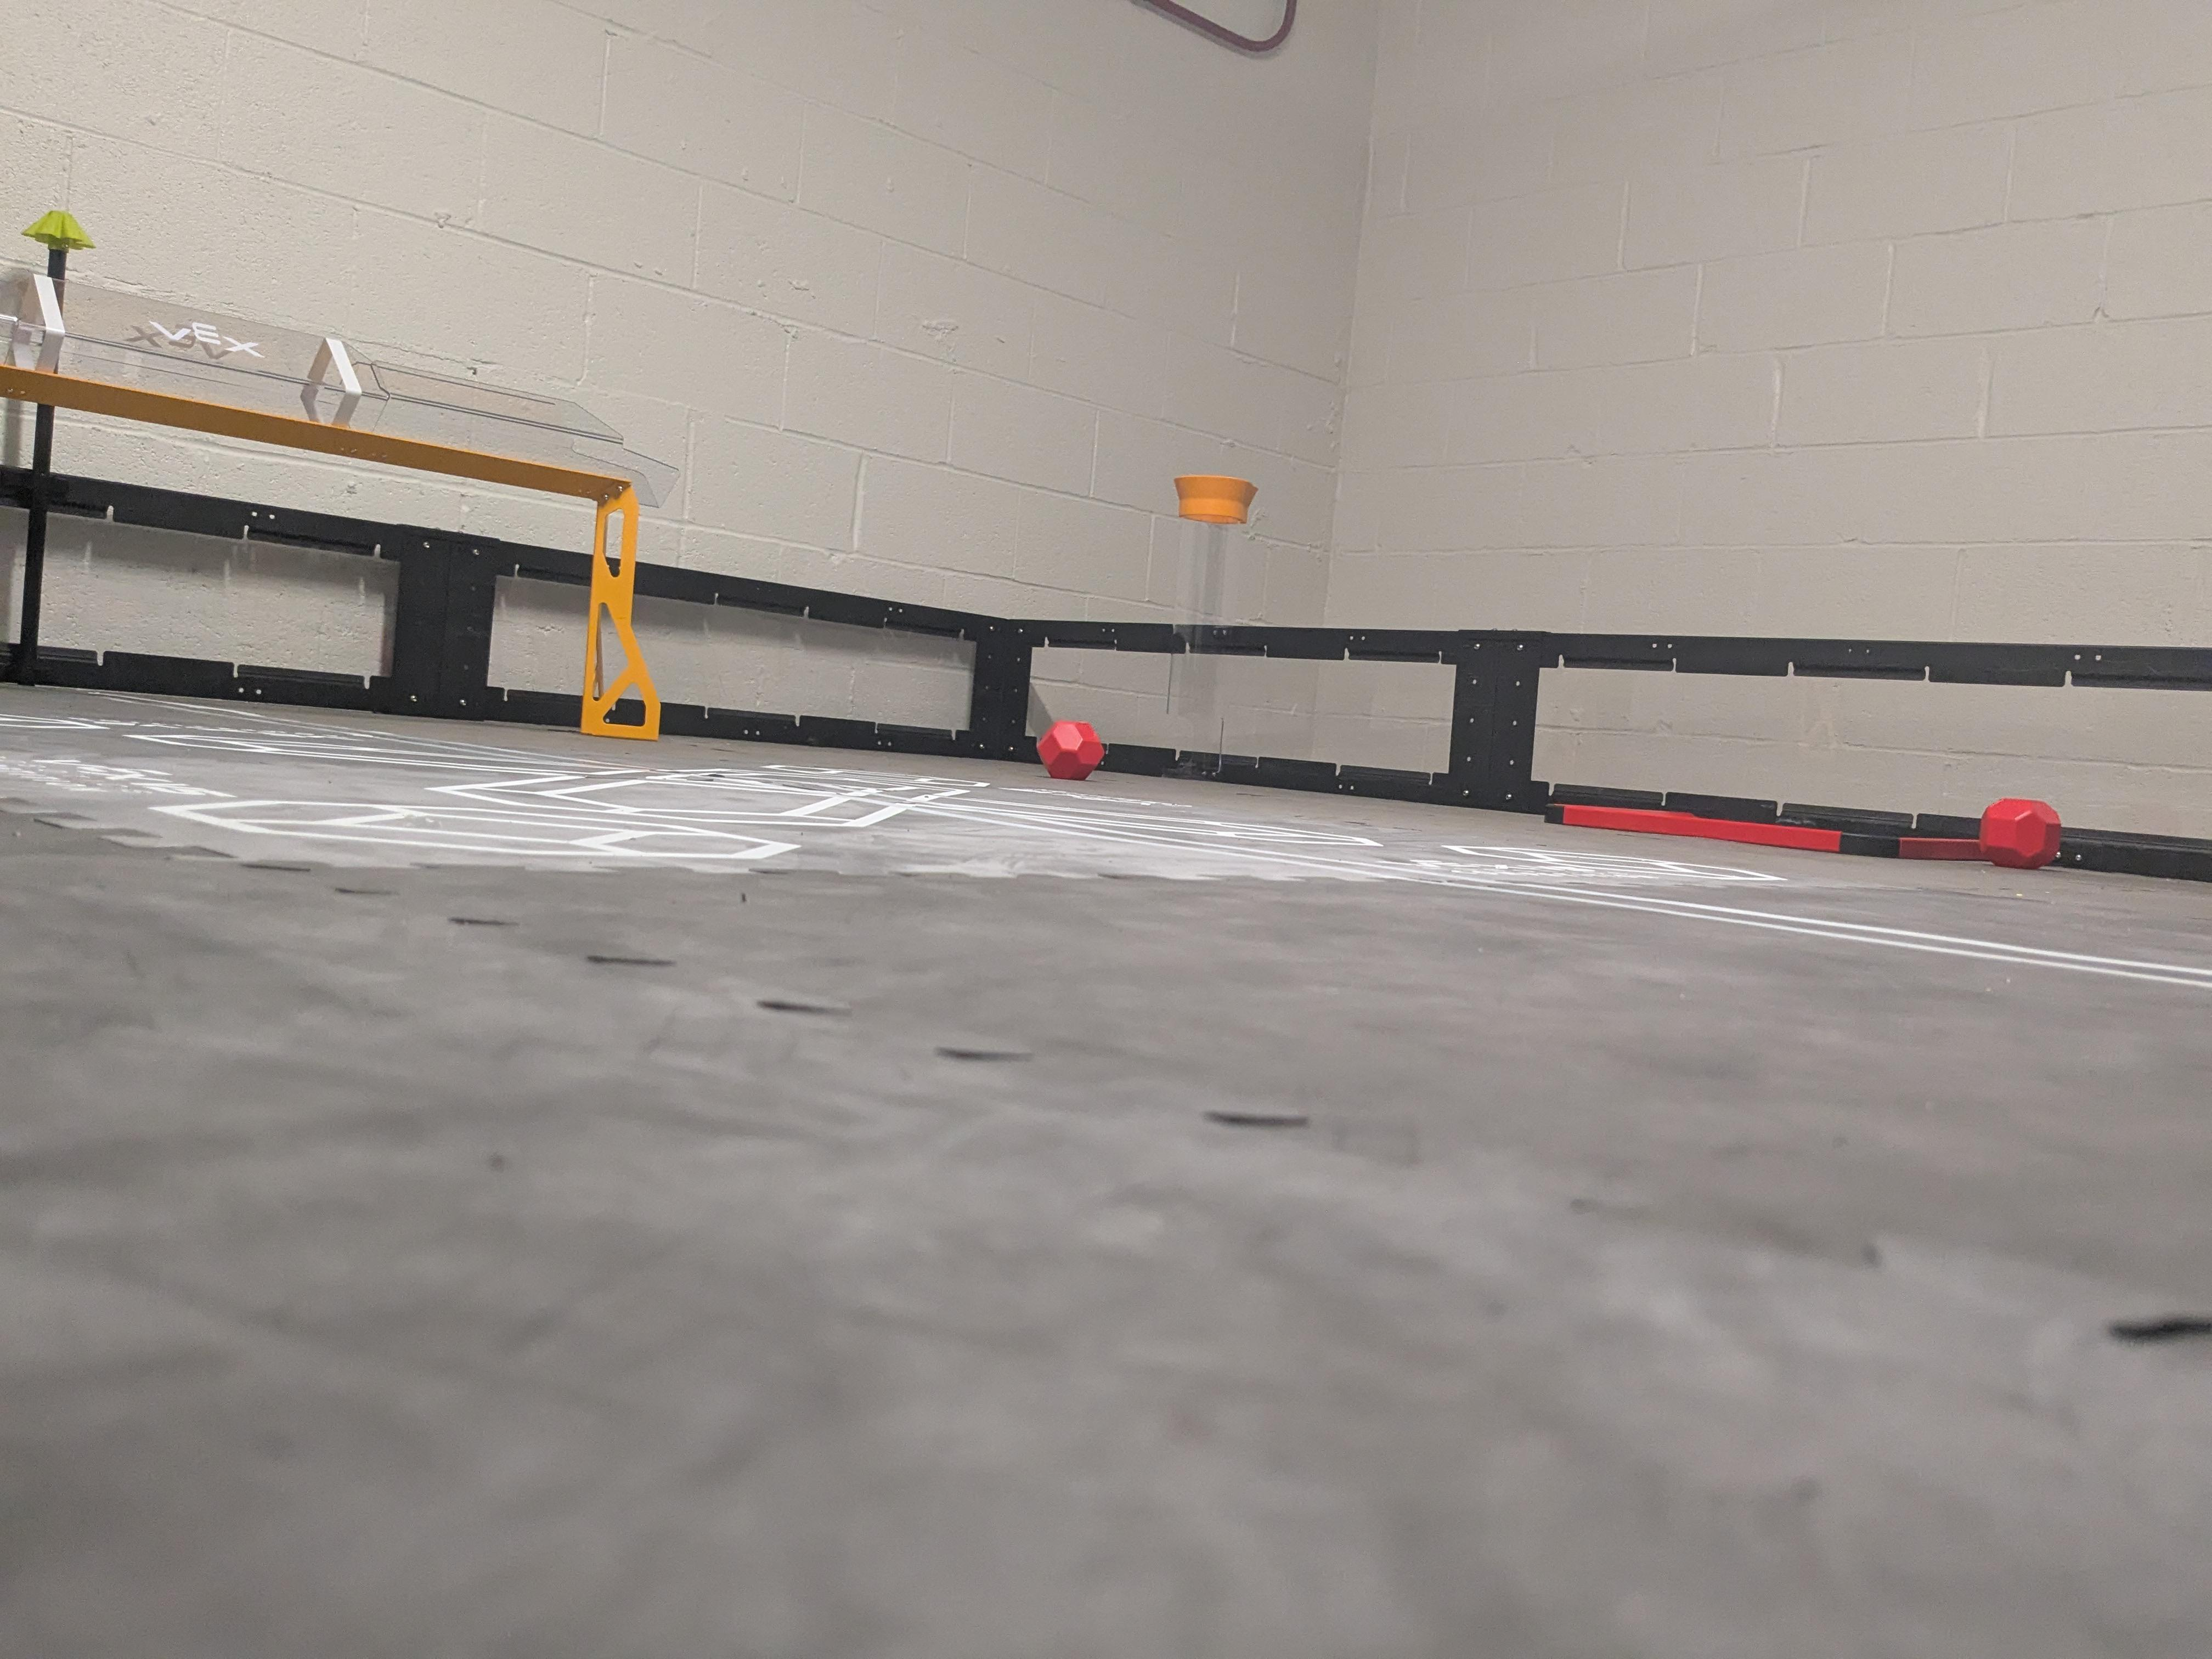Vex-Pieces-RED: (1980, 798, 2062, 868), (1036, 721, 1104, 779)
